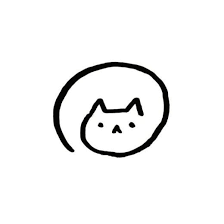cat: (76, 91, 167, 164)
